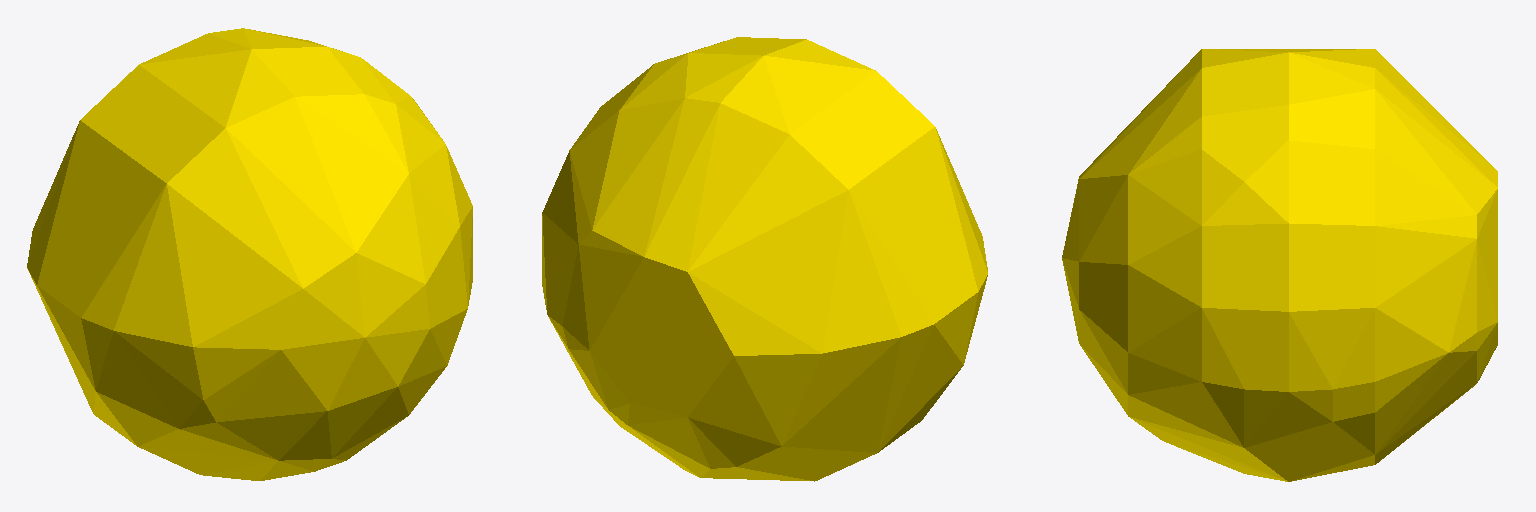
Rendered from a0_buoy.obj.
3 renders of one model, left to right at view 1: azimuth 30°, elevation 25°; view 2: azimuth 150°, elevation 25°; view 3: azimuth 270°, elevation 25°, orthographic.
Visible parts, largest first — view 1: a0_buoy_Sphere; view 2: a0_buoy_Sphere; view 3: a0_buoy_Sphere.
Boxes of the visible parts, box(x1,y1,x2,y2) form: a0_buoy_Sphere: box(27, 28, 472, 480); a0_buoy_Sphere: box(542, 37, 987, 481); a0_buoy_Sphere: box(1062, 49, 1497, 481).
Bounding box in the file's own units: 0.2746 × 0.2773 × 0.2693.